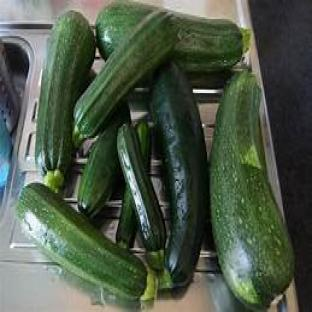Zucchini: (211, 71, 293, 310), (17, 183, 154, 299), (74, 11, 178, 141), (151, 63, 209, 286), (35, 11, 95, 191), (117, 125, 166, 270), (79, 104, 130, 217), (172, 13, 249, 72), (116, 187, 137, 248)
